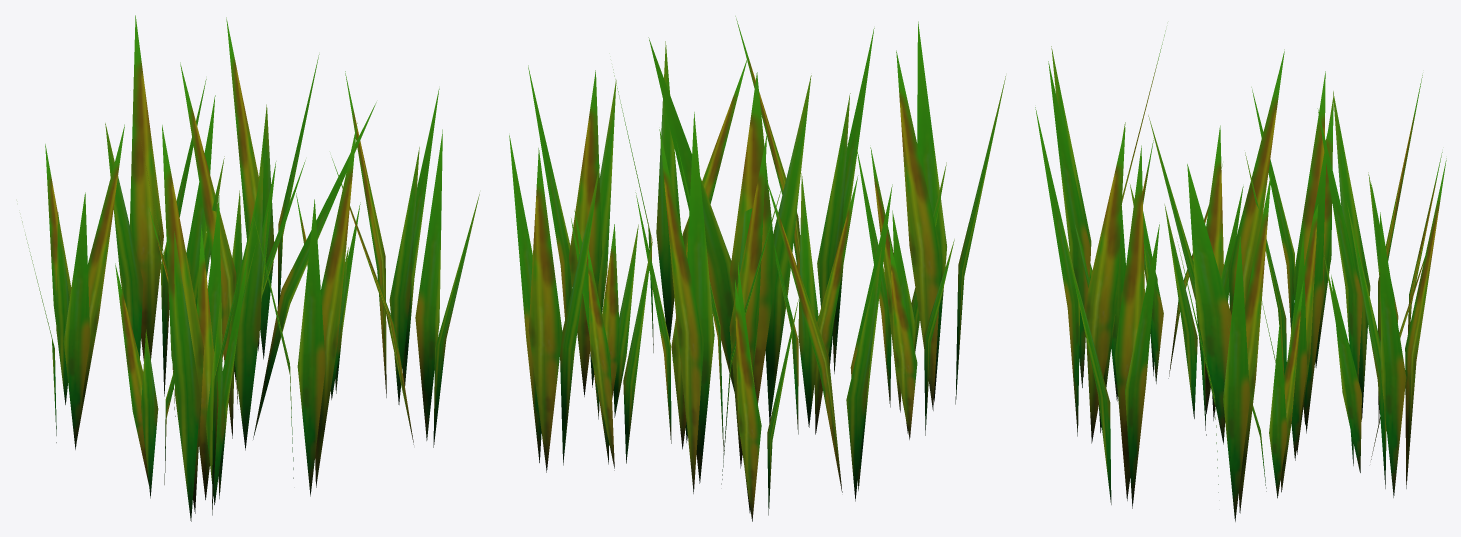
File: grass1x1.obj
The picture shows the model from 3 angles, left to right: view 1: azimuth 30°, elevation 25°; view 2: azimuth 150°, elevation 25°; view 3: azimuth 270°, elevation 25°; orthographic projection. The views are drawn at different scales.
Visible parts, largest first — view 1: grass1x1; view 2: grass1x1; view 3: grass1x1.
Boxes of the visible parts, box(x1,y1,x2,y2) form: grass1x1: box(22, 15, 479, 521); grass1x1: box(509, 16, 1005, 521); grass1x1: box(1035, 30, 1446, 521).
Size of the model in its own units: 1.02 by 0.9483 by 0.943.
Materials: 1 (1 with a texture image).
